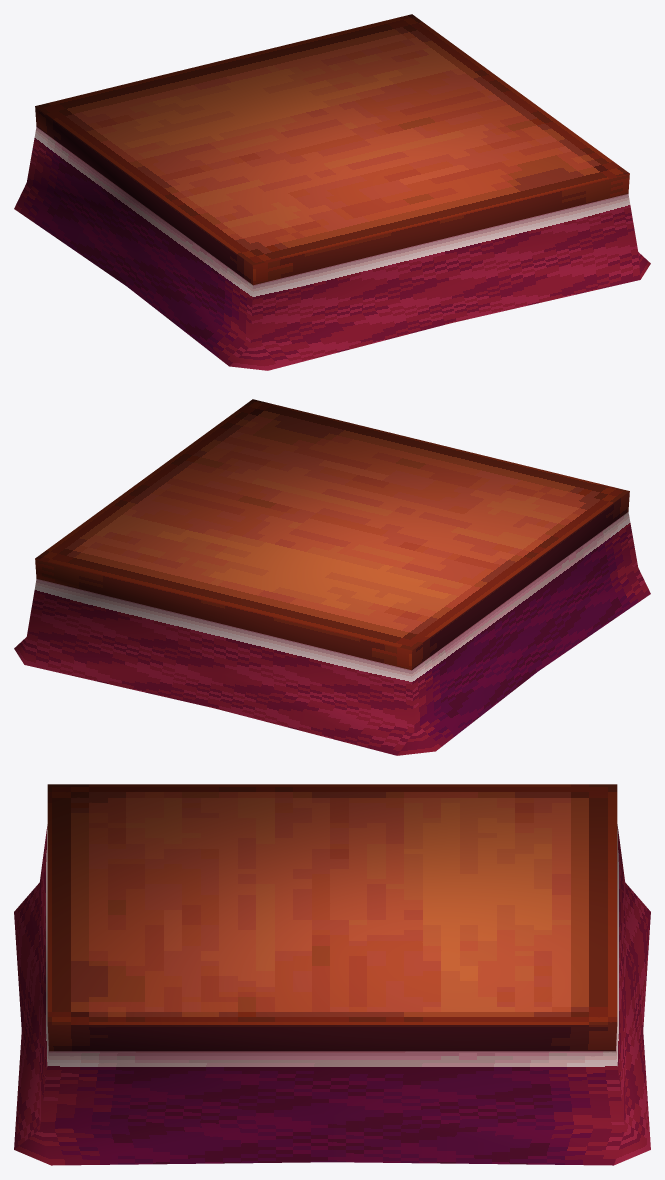
The picture shows the model from 3 angles, top to bottom: view 1: azimuth 30°, elevation 25°; view 2: azimuth 150°, elevation 25°; view 3: azimuth 270°, elevation 25°; orthographic projection. The views are drawn at different scales.
Visible parts, largest first — view 1: 3032imrl01_03; view 2: 3032imrl01_03; view 3: 3032imrl01_03.
Boxes of the visible parts, box(x1,y1,x2,y2) form: 3032imrl01_03: box(14, 14, 650, 370); 3032imrl01_03: box(14, 399, 650, 755); 3032imrl01_03: box(14, 784, 650, 1165).
Size of the model in its own units: 1.97 by 0.4297 by 1.97.
Materials: 2 (2 with a texture image).
